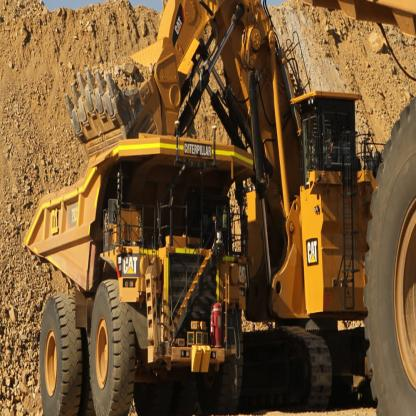dump_truck: (25, 122, 245, 415)
excavator: (73, 3, 393, 397)
